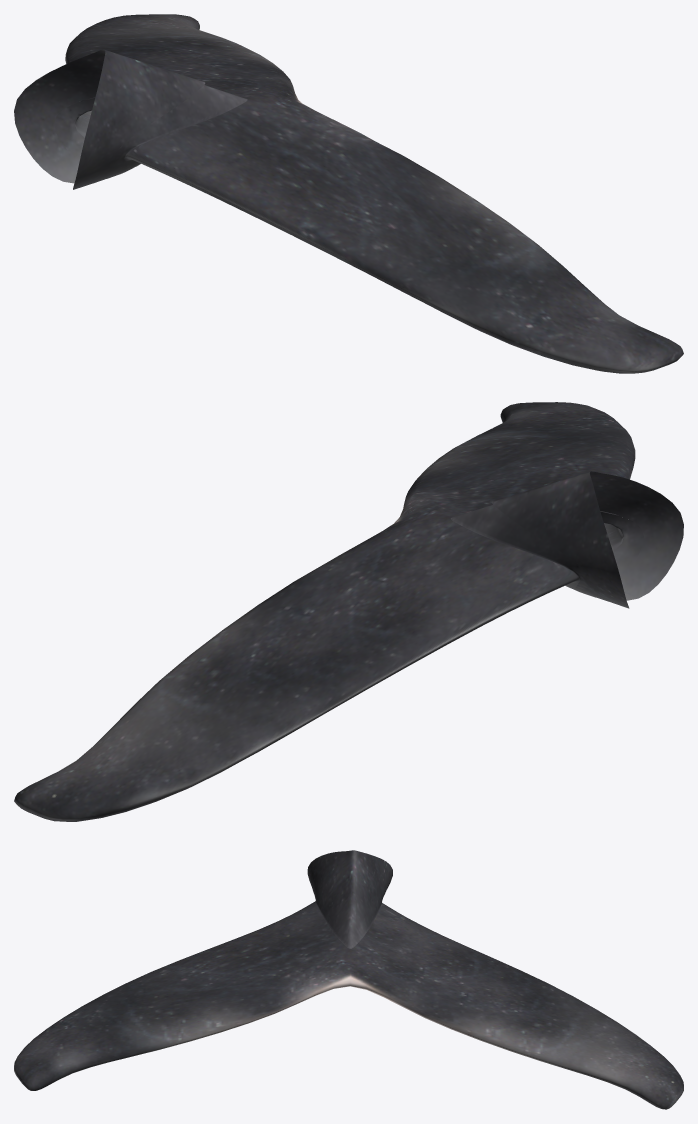
File: cola.obj
The picture shows the model from 3 angles, top to bottom: view 1: azimuth 30°, elevation 25°; view 2: azimuth 150°, elevation 25°; view 3: azimuth 270°, elevation 25°; orthographic projection. The views are drawn at different scales.
Visible parts, largest first — view 1: polySurface3; view 2: polySurface3; view 3: polySurface3.
Part boxes in pixels (x1=…): polySurface3: x1=14, y1=14, x2=683, y2=373; polySurface3: x1=14, y1=402, x2=683, y2=821; polySurface3: x1=14, y1=850, x2=683, y2=1109.
Size of the model in its own units: 1.85 by 1.07 by 4.16.
Materials: 1 (1 with a texture image).
